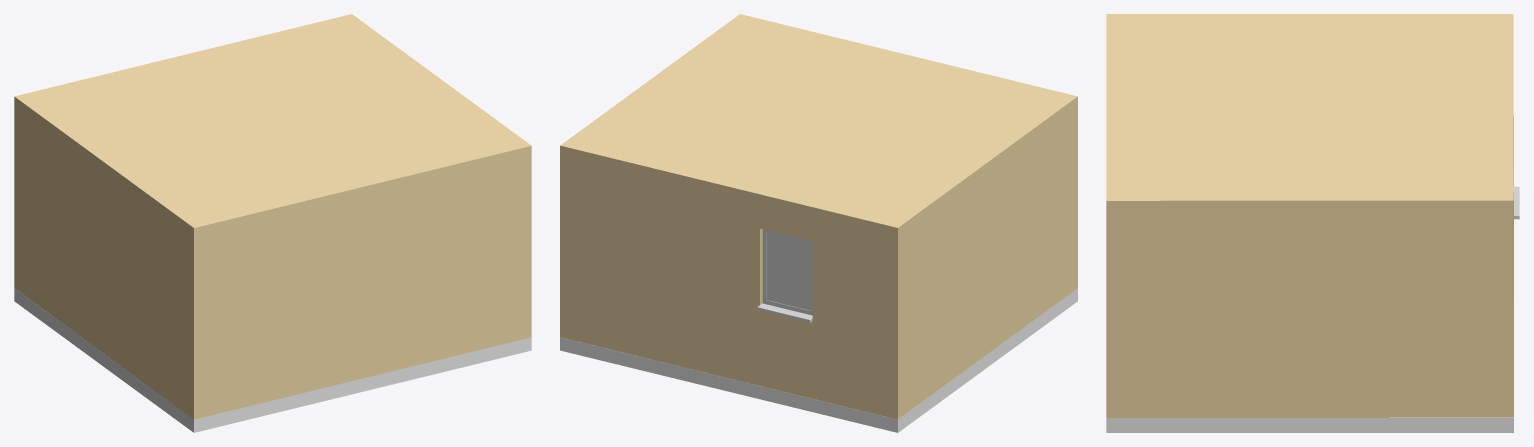
Rendered from FloorPlan28_physics.fbx.
The picture shows the model from 3 angles, left to right: view 1: azimuth 30°, elevation 25°; view 2: azimuth 150°, elevation 25°; view 3: azimuth 270°, elevation 25°; orthographic projection. The views are drawn at different scales.
Visible parts, largest first — view 1: Room, Ceiling, Floor; view 2: Room, Ceiling, Floor, Window, VenetianFrame; view 3: Ceiling, Room, Floor.
Part boxes in pixels (x1=…): Room: x1=14, y1=111, x2=531, y2=419; Ceiling: x1=14, y1=14, x2=531, y2=242; Floor: x1=14, y1=288, x2=531, y2=432; Room: x1=560, y1=111, x2=1077, y2=419; Ceiling: x1=560, y1=14, x2=1077, y2=242; Floor: x1=560, y1=288, x2=1077, y2=432; Window: x1=766, y1=232, x2=810, y2=310; VenetianFrame: x1=757, y1=229, x2=812, y2=322; Ceiling: x1=1106, y1=14, x2=1513, y2=217; Room: x1=1106, y1=116, x2=1513, y2=417; Floor: x1=1106, y1=417, x2=1513, y2=432.
Size of the model in its own units: 479 by 278 by 449.
